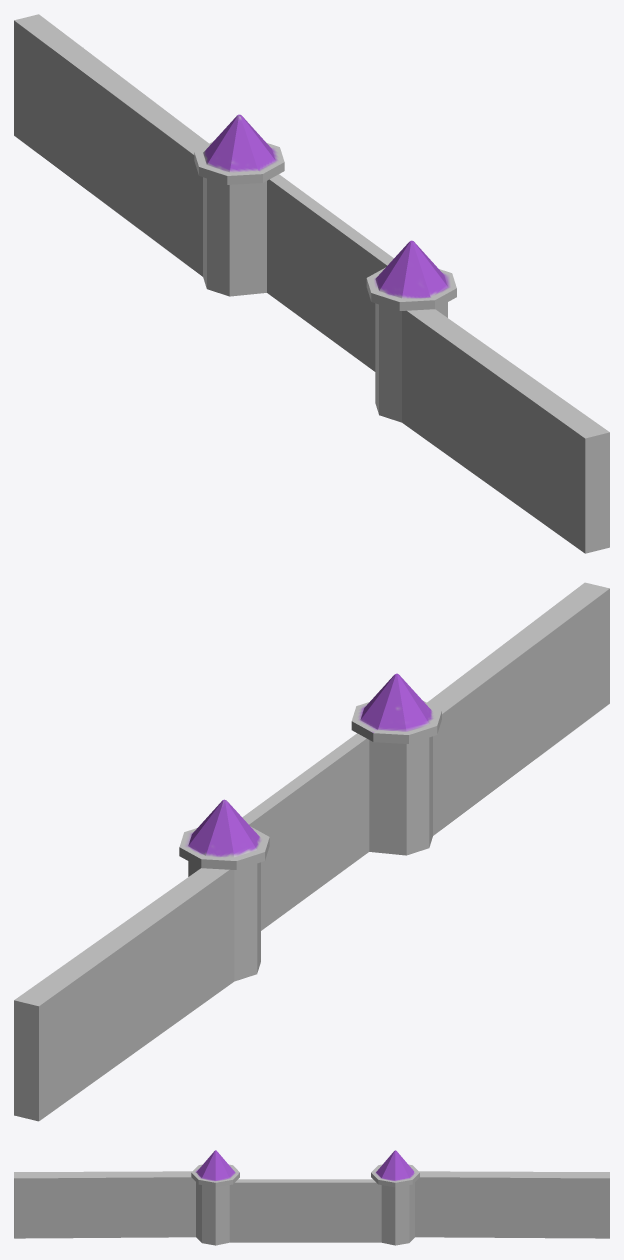
The model's file is Wall.fbx.
3 renders of one model, top to bottom at view 1: azimuth 30°, elevation 25°; view 2: azimuth 150°, elevation 25°; view 3: azimuth 270°, elevation 25°, orthographic. The views are drawn at different scales.
Parts seen in each view (by area): view 1: Wall; view 2: Wall; view 3: Wall.
Part boxes in pixels (x1=…): Wall: x1=14, y1=14, x2=609, y2=553; Wall: x1=14, y1=582, x2=609, y2=1121; Wall: x1=14, y1=1150, x2=609, y2=1245.
Bounding box in the file's own units: 83.35 × 163 × 1019.
